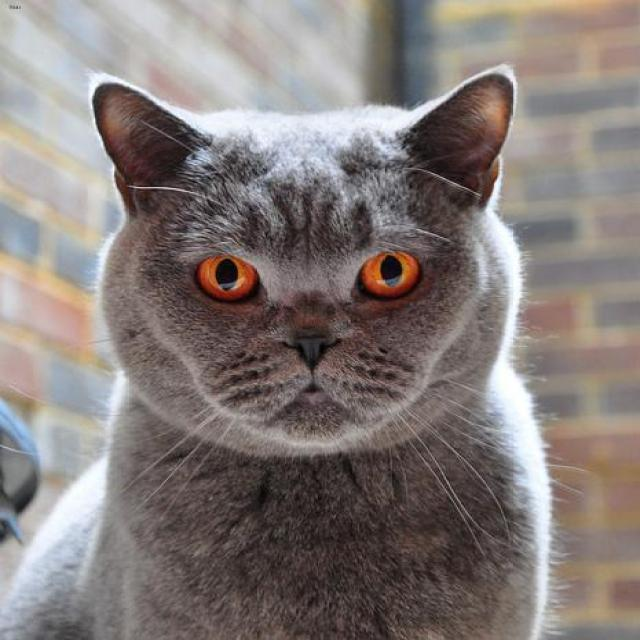cat: (0, 71, 548, 640)
